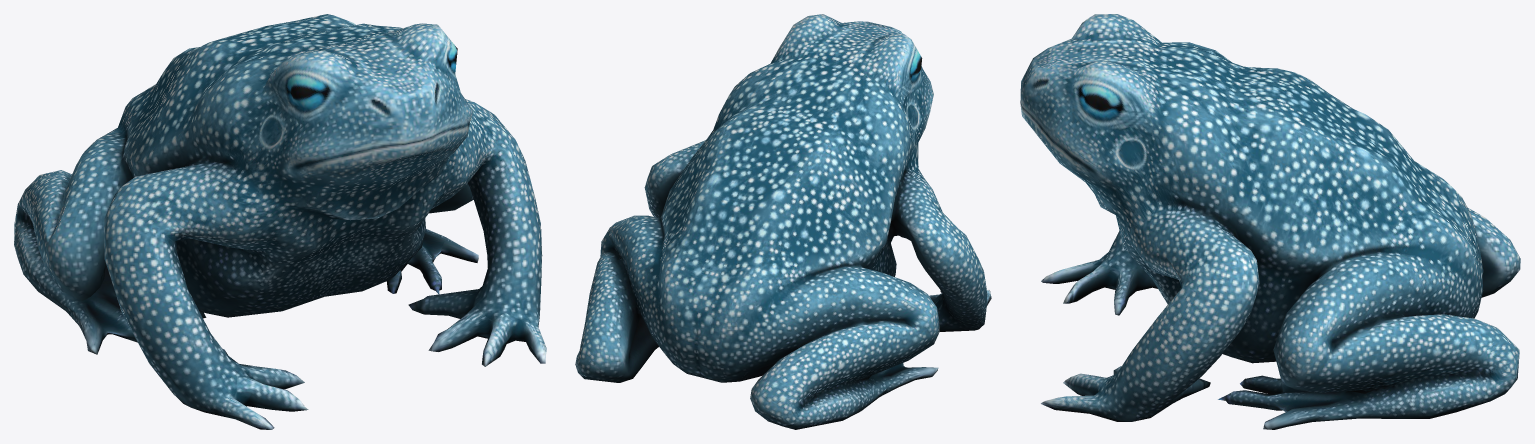
File: MZ4250 - Giant Ice Toad.glb
3 views of the same model, side by side, from view 1: azimuth 30°, elevation 25°; view 2: azimuth 150°, elevation 25°; view 3: azimuth 270°, elevation 25° (orthographic). The views are drawn at different scales.
Visible parts, largest first — view 1: body_low.001; view 2: body_low.001; view 3: body_low.001.
Part boxes in pixels (<box>): body_low.001: <box>14,14,546,429</box>; body_low.001: <box>575,14,991,429</box>; body_low.001: <box>1020,14,1520,429</box>.
Bounding box in the file's own units: 7.81 × 5.95 × 8.67.
1 material, 1 textured.
